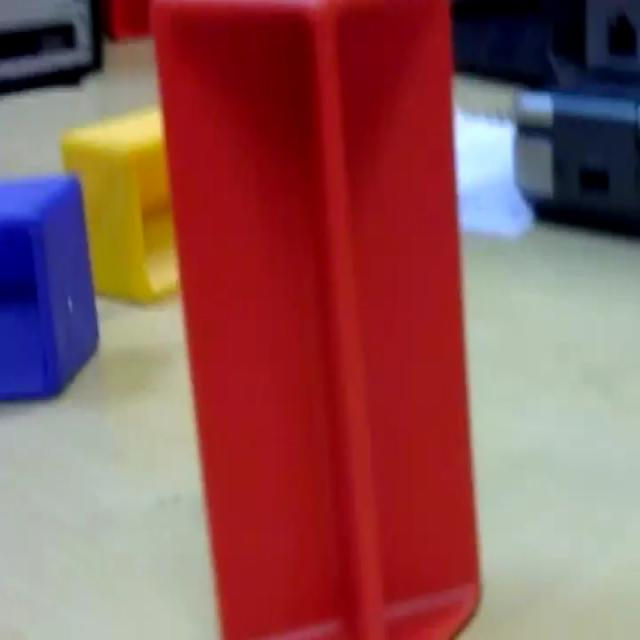blue_block: (0, 171, 99, 401)
red_block: (148, 1, 483, 636)
yellow_block: (60, 103, 179, 304)
